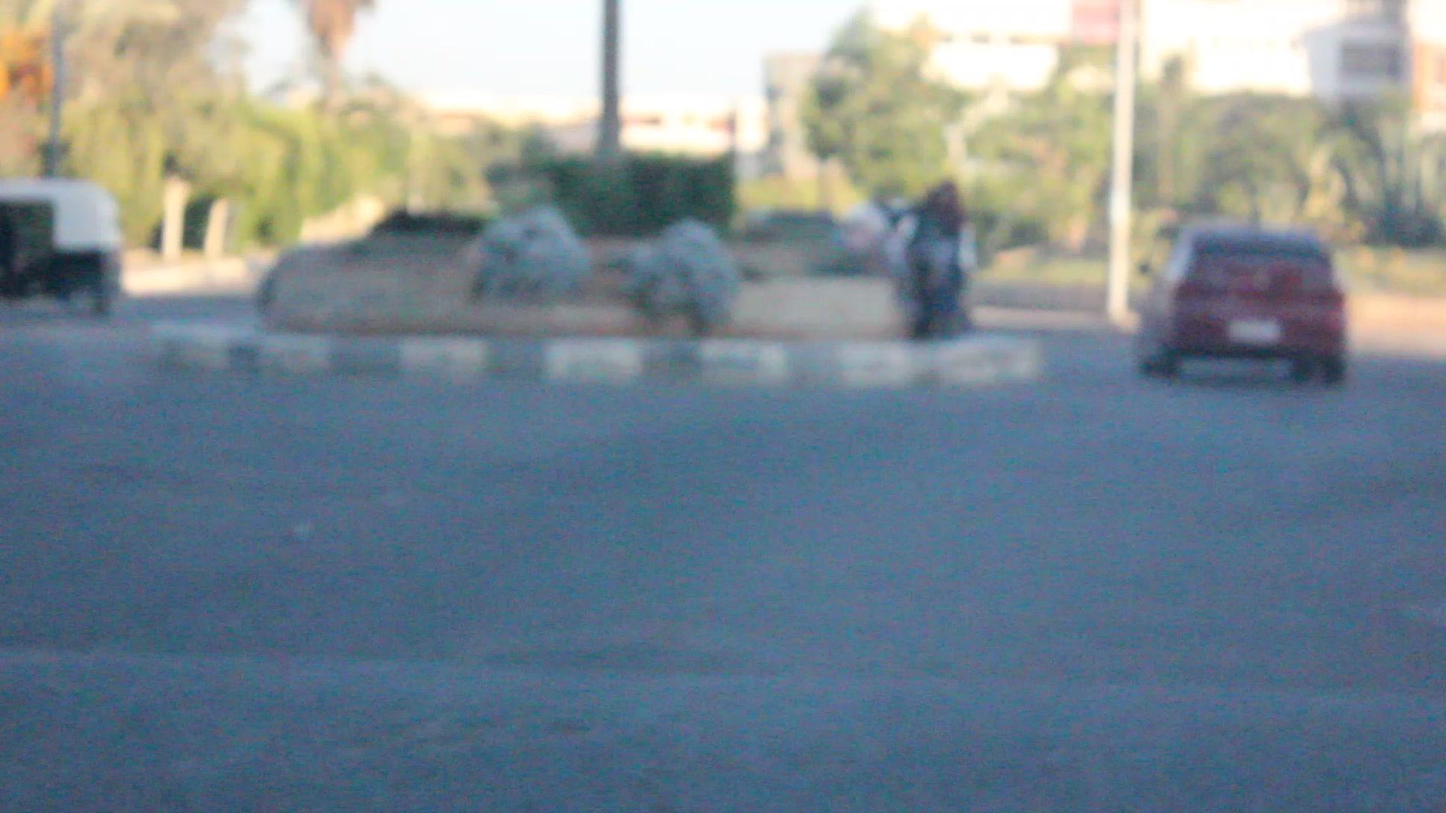Bump: (0, 645, 1445, 812)
